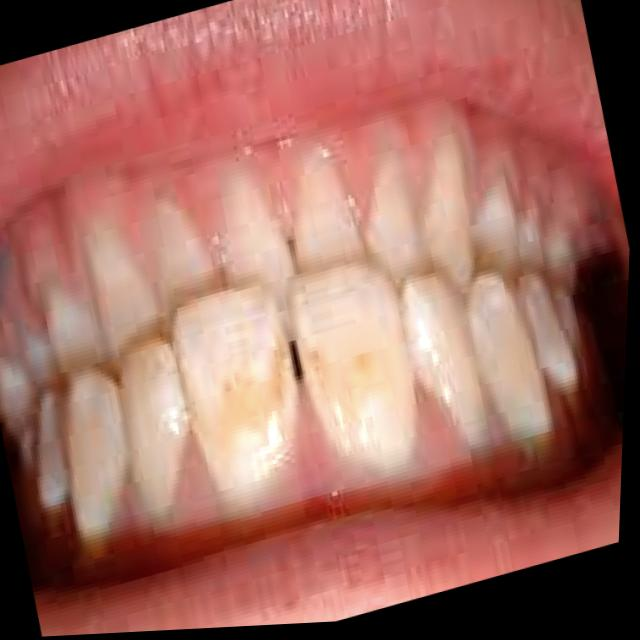tooth-discoloration: (291, 263, 414, 476), (173, 288, 294, 490)
